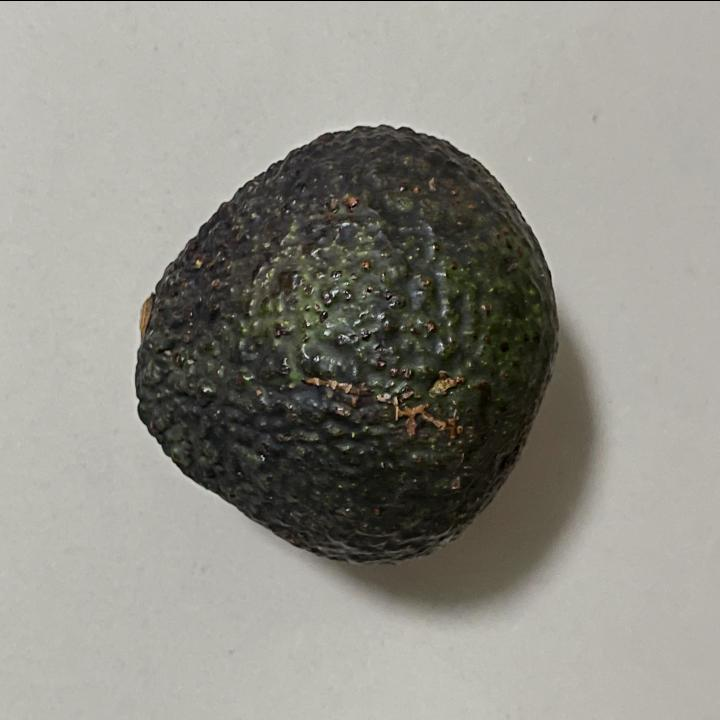Level1: (118, 108, 568, 577)
